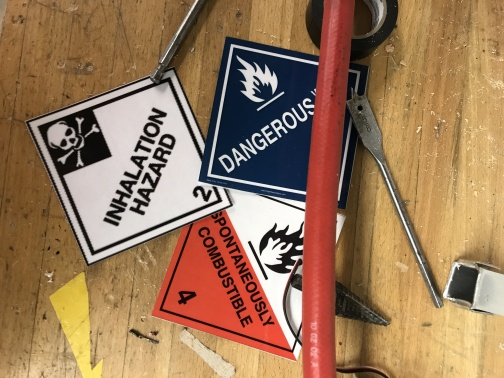DangerousWhenWet: (200, 37, 371, 208)
InhalationHazard: (28, 69, 229, 266)
SpontaneouslyCombustible: (152, 186, 345, 359)
